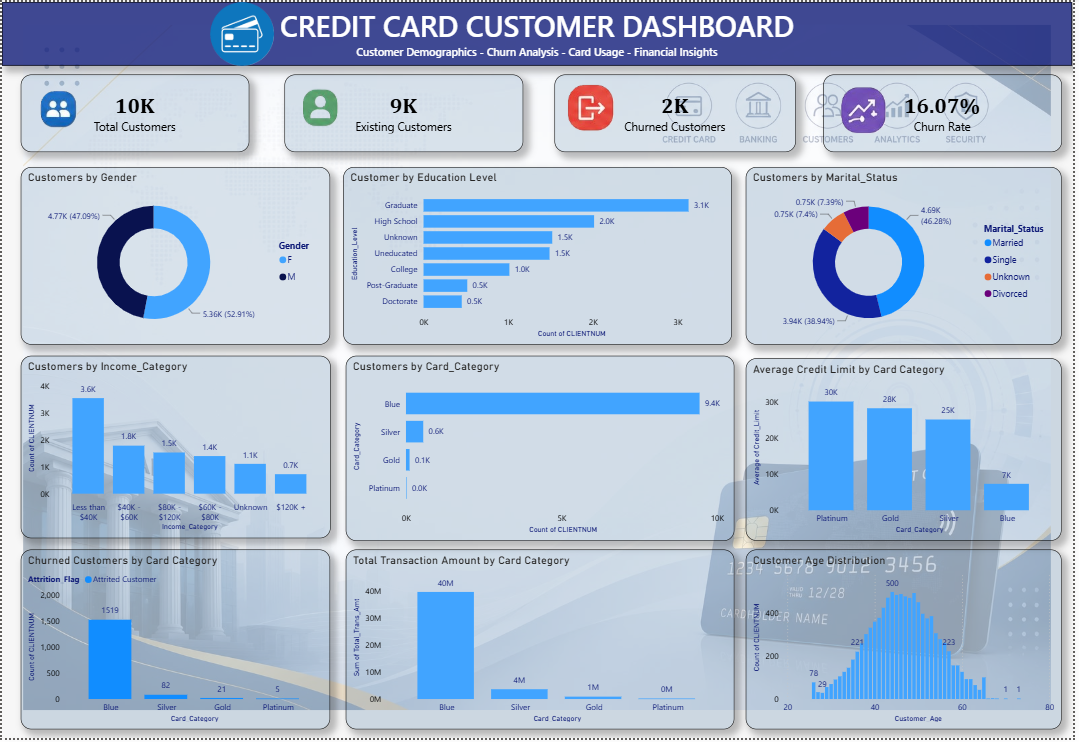

This screenshot's page, from the dashboard's own definition file:
{"tool":"powerbi","page":{"name":"Credit Card Customer Dashboard","canvas":[1600,1100],"ordinal":0},"visuals":[{"type":"textbox","box":[0,0,1599.2,95.3],"z":0},{"type":"cardVisual","fields":{"Data":["bank churners.Total Customers"]},"box":[28,108.4,341.9,115.8],"z":1000},{"type":"cardVisual","fields":{"Data":["bank churners.Existing Customers"]},"box":[422.2,108.4,356.8,115.8],"z":2000},{"type":"cardVisual","fields":{"Data":["bank churners.Churned Customers"]},"box":[825.8,108.4,360.6,115.8],"z":3000},{"type":"cardVisual","fields":{"Data":["bank churners.Churn Rate"]},"box":[1227.4,108.4,356.8,115.8],"z":4000},{"type":"donutChart","title":"Customers by Gender","fields":{"Category":["bank churners.Gender"],"Y":["CountNonNull(bank churners.CLIENTNUM)"]},"box":[27.6,247,462.6,265.4],"z":5000},{"type":"clusteredBarChart","title":"Customer by Education Level","fields":{"Category":["bank churners.Education_Level"],"Y":["CountNonNull(bank churners.CLIENTNUM)"]},"box":[510,246.6,581,265.3],"z":6000},{"type":"donutChart","title":"Customers by Marital_Status","fields":{"Category":["bank churners.Marital_Status"],"Y":["CountNonNull(bank churners.CLIENTNUM)"]},"box":[1111.4,247,471.9,265.4],"z":7000},{"type":"clusteredColumnChart","title":"Customers by Income_Category","fields":{"Category":["bank churners.Income_Category"],"Y":["CountNonNull(bank churners.CLIENTNUM)"]},"box":[28,528.7,463.3,272.8],"z":8000},{"type":"clusteredBarChart","title":"Customers  by Card_Category","fields":{"Category":["bank churners.Card_Category"],"Y":["CountNonNull(bank churners.CLIENTNUM)"]},"box":[514.2,529,580.6,276.5],"z":9000},{"type":"clusteredColumnChart","title":"Average Credit Limit by Card Category","fields":{"Category":["bank churners.Card_Category"],"Y":["Avg(bank churners.Credit_Limit)"]},"box":[1111.4,532.7,471.9,272.8],"z":10000},{"type":"clusteredColumnChart","title":"Churned Customers by Card Category","fields":{"Category":["bank churners.Card_Category"],"Y":["CountNonNull(bank churners.CLIENTNUM)"],"Series":["bank churners.Attrition_Flag"]},"box":[27.6,818.4,462.6,269.1],"z":11000},{"type":"clusteredColumnChart","title":"Total Transaction Amount by Card Category","fields":{"Category":["bank churners.Card_Category"],"Y":["Sum(bank churners.Total_Trans_Amt)"]},"box":[514.2,818.4,580.6,269.1],"z":12000},{"type":"clusteredColumnChart","title":"Customer Age Distribution","fields":{"Category":["bank churners.Customer_Age"],"Y":["Count(bank churners.CLIENTNUM)"]},"box":[1111.4,818.4,471.9,269.1],"z":13000},{"type":"image","box":[41.1,125.2,84.1,67.3],"z":14000},{"type":"image","box":[439,121.4,74.7,74.7],"z":15000},{"type":"image","box":[838.8,114,82.2,87.8],"z":16000},{"type":"image","box":[1246.1,112.1,82.2,97.1],"z":17000},{"type":"image","box":[295.2,0,127,95.3],"z":18000}]}

Visuals, with their boxes in screenshot pixels (x1, y1, x2, y2), scaled from the page's 1600x1100 canvas onto the 1079x742 screenshot:
textbox: detection(0, 0, 1078, 64)
cardVisual - bank churners.Total Customers: detection(19, 73, 249, 151)
cardVisual - bank churners.Existing Customers: detection(285, 73, 525, 151)
cardVisual - bank churners.Churned Customers: detection(557, 73, 800, 151)
cardVisual - bank churners.Churn Rate: detection(828, 73, 1068, 151)
"Customers by Gender" donutChart: detection(19, 167, 331, 346)
"Customer by Education Level" clusteredBarChart: detection(344, 166, 736, 345)
"Customers by Marital_Status" donutChart: detection(750, 167, 1068, 346)
"Customers by Income_Category" clusteredColumnChart: detection(19, 357, 331, 541)
"Customers  by Card_Category" clusteredBarChart: detection(347, 357, 738, 543)
"Average Credit Limit by Card Category" clusteredColumnChart: detection(750, 359, 1068, 543)
"Churned Customers by Card Category" clusteredColumnChart: detection(19, 552, 331, 734)
"Total Transaction Amount by Card Category" clusteredColumnChart: detection(347, 552, 738, 734)
"Customer Age Distribution" clusteredColumnChart: detection(750, 552, 1068, 734)
image: detection(28, 84, 84, 130)
image: detection(296, 82, 346, 132)
image: detection(566, 77, 621, 136)
image: detection(840, 76, 896, 141)
image: detection(199, 0, 285, 64)
